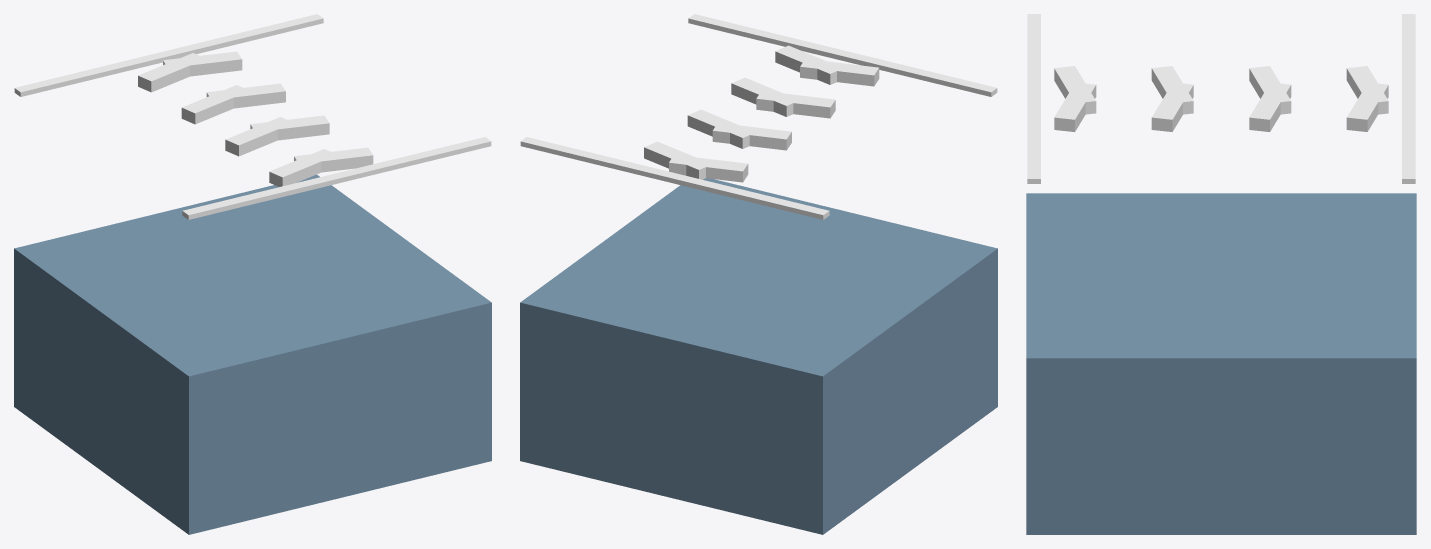
Rendered from OnOffConveyorB_Half.glb.
3 renders of one model, left to right at view 1: azimuth 30°, elevation 25°; view 2: azimuth 150°, elevation 25°; view 3: azimuth 270°, elevation 25°, orthographic. The views are drawn at different scales.
Parts seen in each view (by area): view 1: OnOffConveyorB_Half_body, rail_-0.016, rail_0.016, chev_1_1.016, chev_3_1.016, chev_0_1.016, chev_2_1.016, chev_1_-1.016, chev_2_-1.016, chev_0_-1.016, chev_3_-1.016; view 2: OnOffConveyorB_Half_body, rail_0.016, rail_-0.016, chev_2_1.016, chev_0_1.016, chev_3_1.016, chev_1_-1.016, chev_1_1.016, chev_0_-1.016, chev_2_-1.016, chev_3_-1.016; view 3: OnOffConveyorB_Half_body, rail_0.016, rail_-0.016, chev_3_-1.016, chev_2_-1.016, chev_1_-1.016, chev_0_-1.016, chev_0_1.016, chev_1_1.016, chev_2_1.016, chev_3_1.016.
Boxes of the visible parts, <box> form: OnOffConveyorB_Half_body: <box>14,174,491,534</box>; rail_-0.016: <box>182,137,491,219</box>; rail_0.016: <box>14,14,323,96</box>; chev_1_1.016: <box>225,117,293,156</box>; chev_3_1.016: <box>138,53,205,92</box>; chev_0_1.016: <box>269,149,336,186</box>; chev_2_1.016: <box>181,85,243,124</box>; chev_1_-1.016: <box>250,115,329,140</box>; chev_2_-1.016: <box>206,83,285,108</box>; chev_0_-1.016: <box>294,147,373,172</box>; chev_3_-1.016: <box>163,51,242,76</box>; OnOffConveyorB_Half_body: <box>520,178,997,534</box>; rail_0.016: <box>520,137,829,219</box>; rail_-0.016: <box>688,14,997,96</box>; chev_2_1.016: <box>712,123,791,150</box>; chev_0_1.016: <box>800,59,879,86</box>; chev_3_1.016: <box>669,155,748,182</box>; chev_1_-1.016: <box>731,77,799,116</box>; chev_1_1.016: <box>756,93,835,118</box>; chev_0_-1.016: <box>775,45,836,84</box>; chev_2_-1.016: <box>687,109,749,148</box>; chev_3_-1.016: <box>644,141,705,179</box>; OnOffConveyorB_Half_body: <box>1026,193,1416,534</box>; rail_0.016: <box>1402,14,1415,183</box>; rail_-0.016: <box>1027,14,1040,183</box>; chev_3_-1.016: <box>1346,83,1388,131</box>; chev_2_-1.016: <box>1249,82,1291,131</box>; chev_1_-1.016: <box>1151,82,1193,131</box>; chev_0_-1.016: <box>1054,82,1096,131</box>; chev_0_1.016: <box>1054,66,1096,114</box>; chev_1_1.016: <box>1151,66,1193,114</box>; chev_2_1.016: <box>1249,66,1291,114</box>; chev_3_1.016: <box>1346,66,1388,114</box>.
Size of the model in its own units: 1 by 1.02 by 1.
